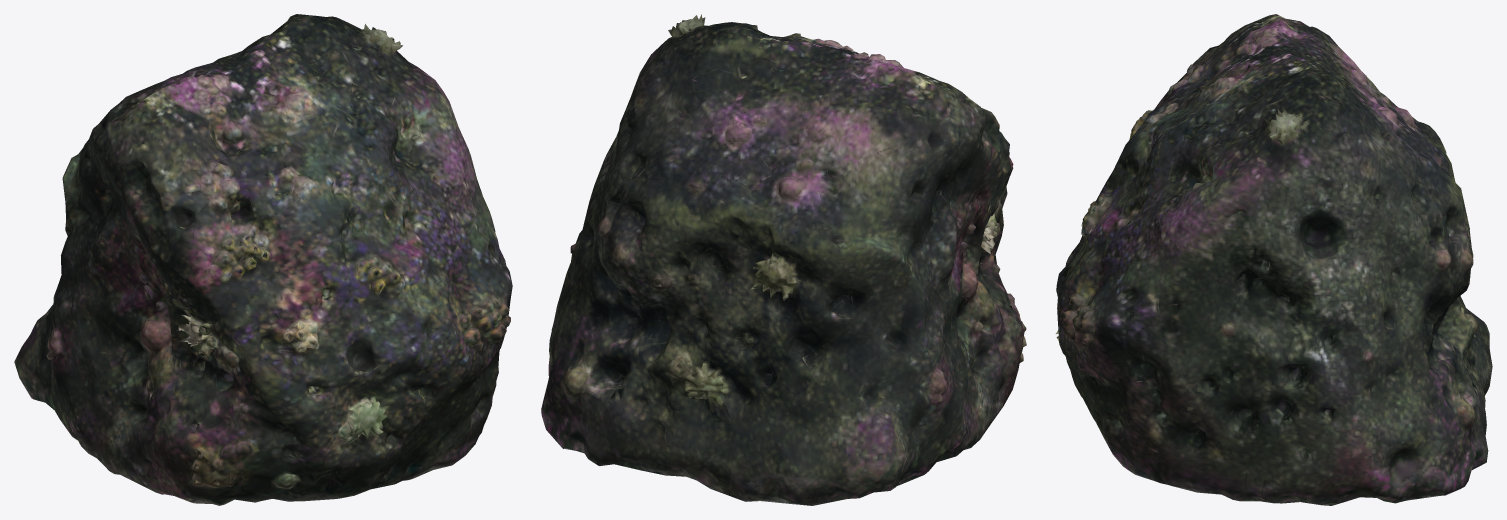
File: rock_1.glb
3 views of the same model, side by side, from view 1: azimuth 30°, elevation 25°; view 2: azimuth 150°, elevation 25°; view 3: azimuth 270°, elevation 25° (orthographic). The views are drawn at different scales.
Visible parts, largest first — view 1: Mesh1.0; view 2: Mesh1.0; view 3: Mesh1.0.
Part boxes in pixels (x1=…): Mesh1.0: x1=14, y1=14, x2=512, y2=505; Mesh1.0: x1=541, y1=14, x2=1026, y2=505; Mesh1.0: x1=1056, y1=14, x2=1492, y2=505.
Size of the model in its own units: 1.9 by 1.8 by 1.91.
1 material, 1 textured.
